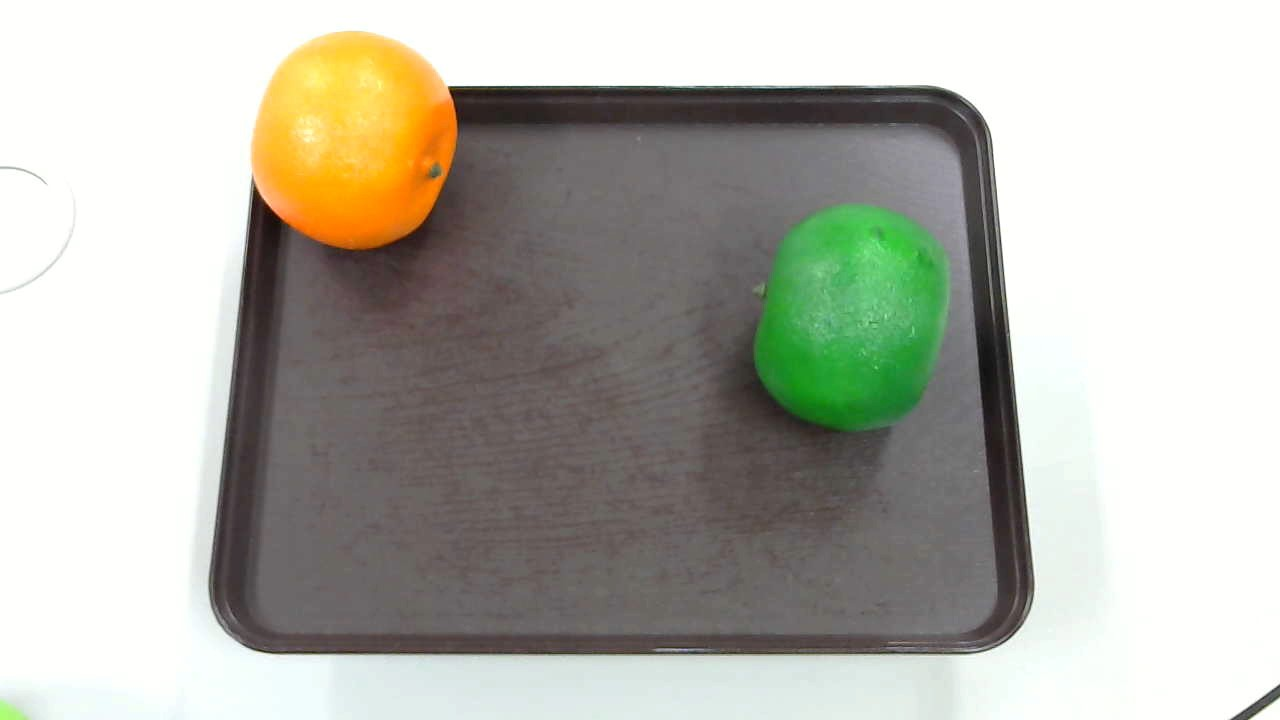green orange: (745, 197, 949, 442)
orange: (254, 30, 463, 258)
